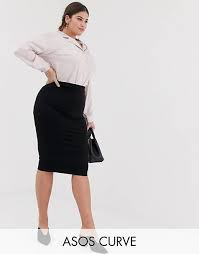F_tailored skirt: (28, 81, 101, 178)
